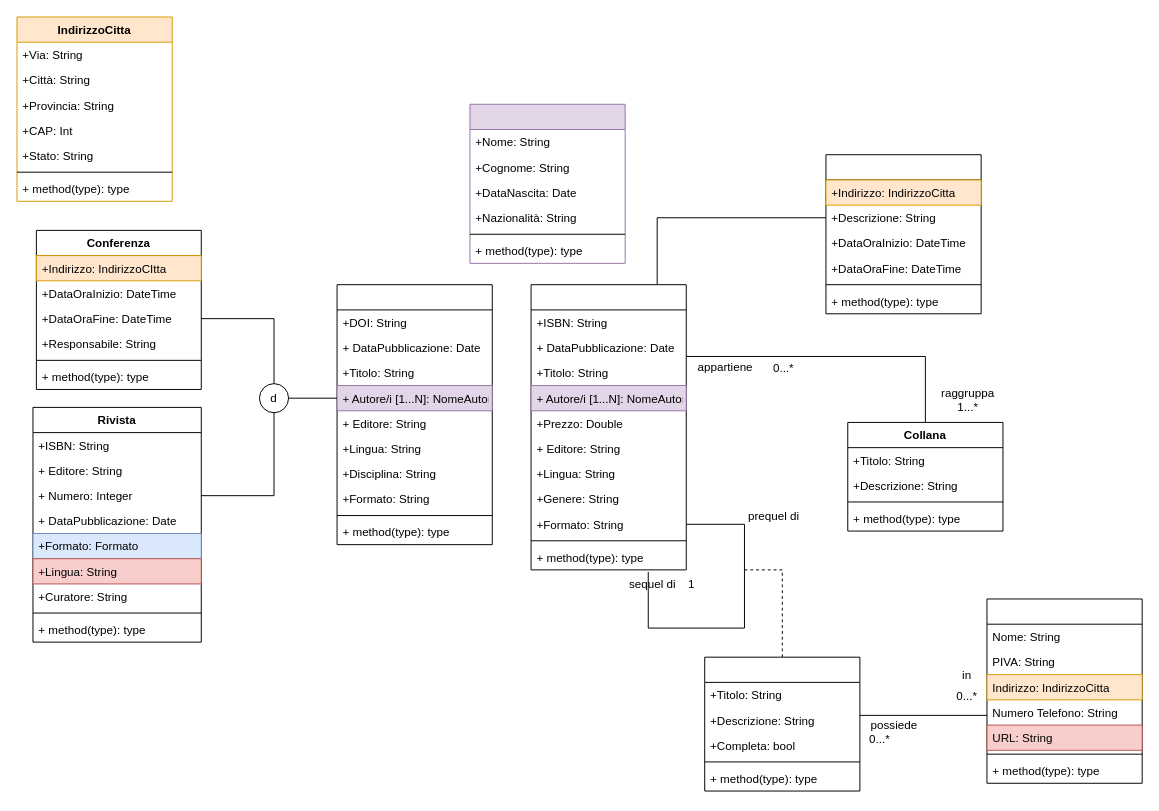
Image size: 1159x811. Some labels were removed from this diagram. The shapes that lost their labels are listed below. From the top down, each one's box as (x1, y1, x2, y2) in pixels, then its label:
(469, 103, 625, 263): NomeAutore
(825, 154, 981, 314): Presentazione
(336, 284, 492, 545): Articolo
(530, 284, 686, 570): Libro
(986, 598, 1142, 783): Negozio
(704, 656, 860, 791): Serie
